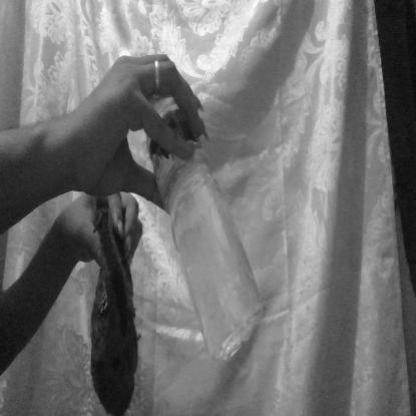Plastic Bottle: (136, 52, 295, 394)
